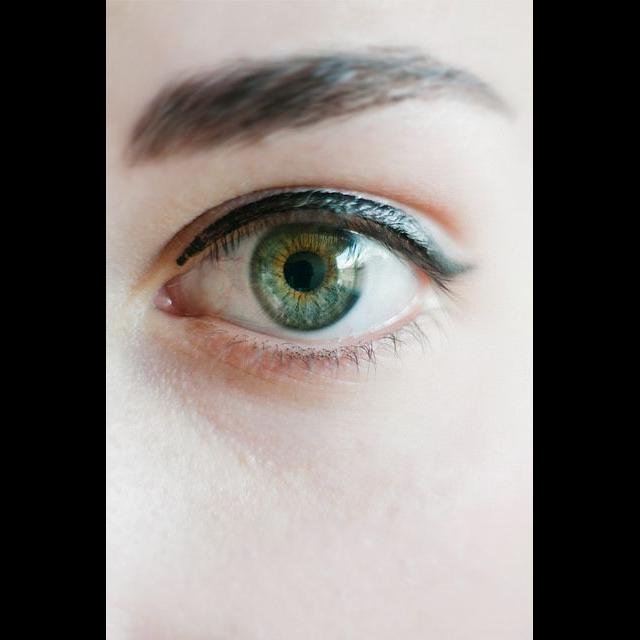eye: (175, 216, 428, 347)
iris: (250, 220, 367, 330)
